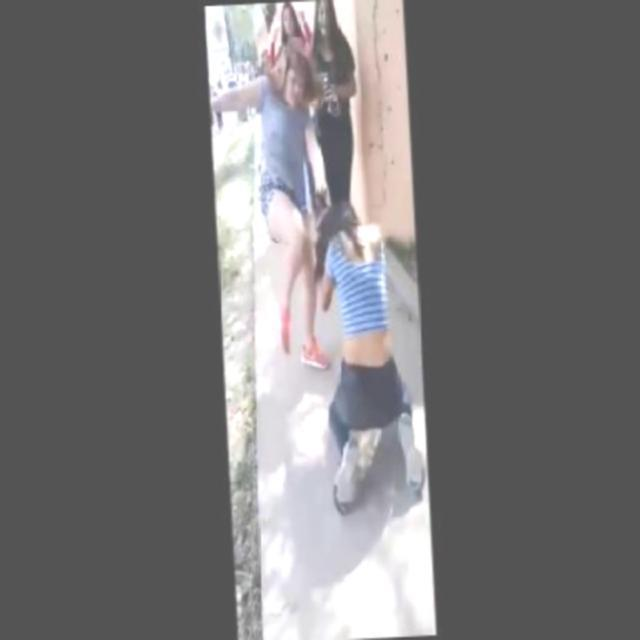fight: (209, 41, 428, 514)
